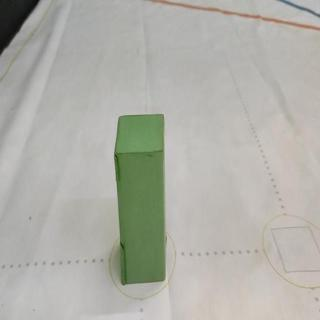greenbox: (113, 113, 170, 285)
